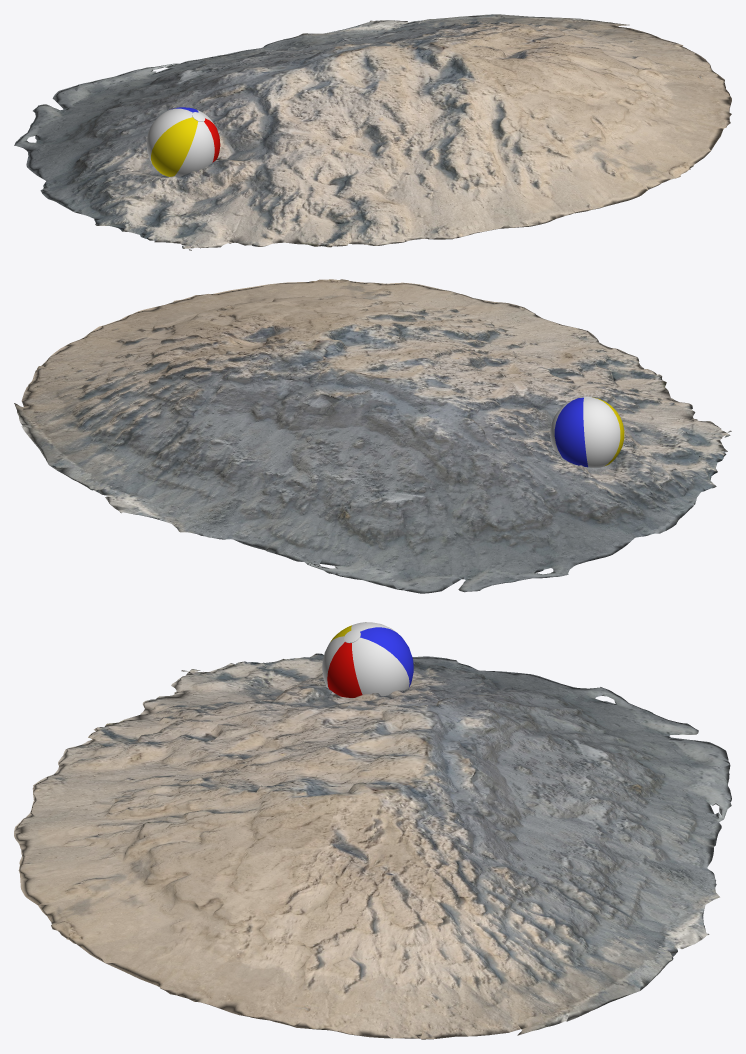
The model's file is hauda.glb.
3 views of the same model, one above another, from view 1: azimuth 30°, elevation 25°; view 2: azimuth 150°, elevation 25°; view 3: azimuth 270°, elevation 25° (orthographic). The views are drawn at different scales.
Parts seen in each view (by area): view 1: 3DModel_LowPoly, Sphere; view 2: 3DModel_LowPoly, Sphere; view 3: 3DModel_LowPoly, Sphere.
Boxes of the visible parts, left/top/right/bottom form: 3DModel_LowPoly: left=14, top=14, right=731, bottom=250; Sphere: left=146, top=107, right=220, bottom=176; 3DModel_LowPoly: left=14, top=279, right=731, bottom=593; Sphere: left=550, top=396, right=624, bottom=467; 3DModel_LowPoly: left=14, top=653, right=731, bottom=1039; Sphere: left=322, top=622, right=413, bottom=697.
Size of the model in its own units: 5 by 0.6839 by 3.95.
5 materials, 1 textured.
